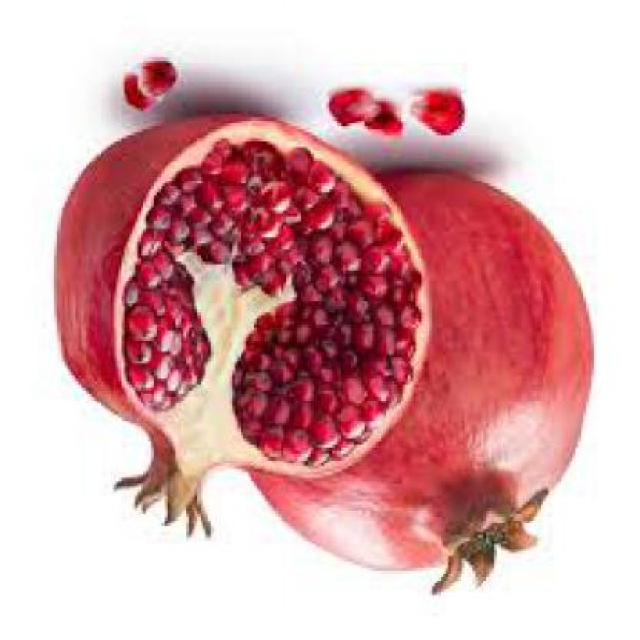BIODEGRADABLE: (56, 114, 429, 532), (251, 174, 590, 594), (412, 89, 465, 134), (329, 89, 376, 126), (365, 100, 402, 136), (142, 59, 175, 96), (126, 74, 154, 109)
